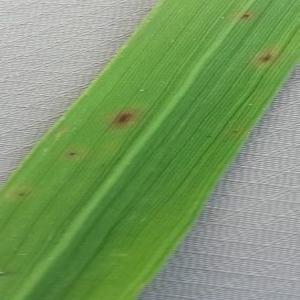Brown_Spot: (105, 103, 141, 132), (251, 48, 278, 67), (237, 7, 255, 24), (134, 84, 149, 96), (65, 149, 80, 160), (203, 131, 216, 143), (230, 127, 241, 139), (16, 190, 26, 200)
